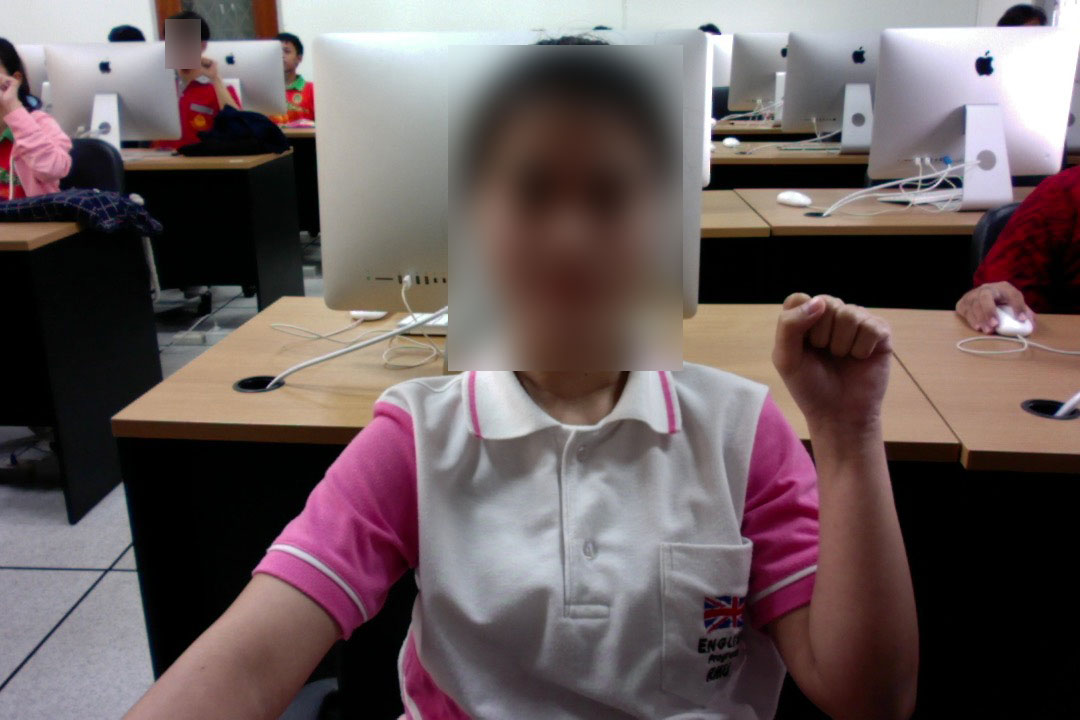sor: (763, 280, 896, 439)
